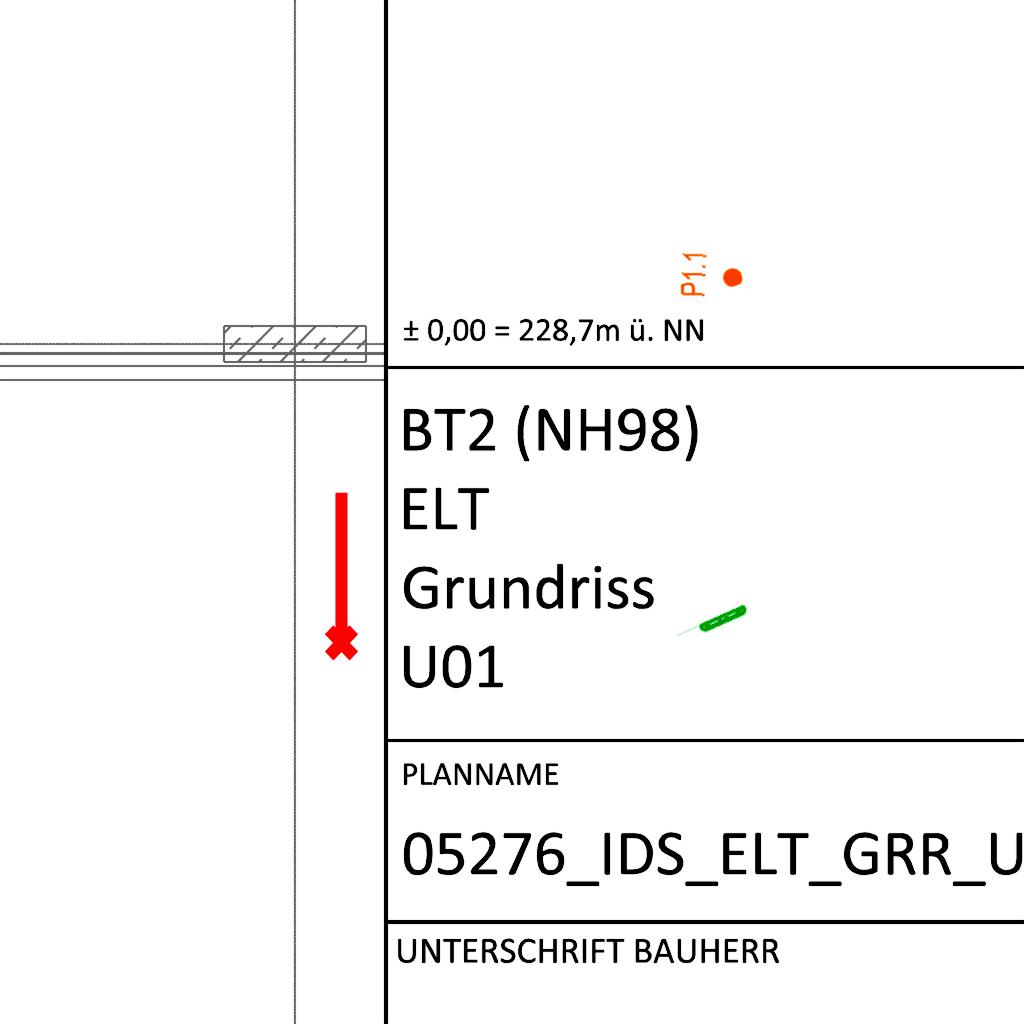ASR_Ansaugoeffnung: (316, 487, 362, 663)
Downlight_LED_Einbauleuchten_Flur_2: (678, 250, 746, 300)
Sicherheitsleuchte_Wandeinbau: (673, 602, 751, 647)
